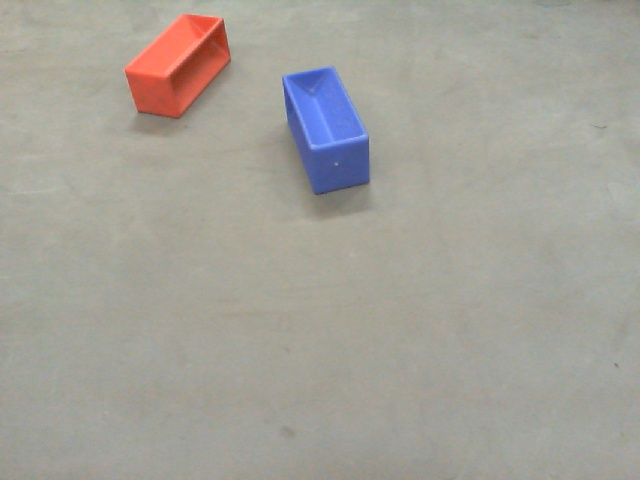BlueSample: (280, 60, 378, 201)
RedSample: (122, 10, 233, 120)
